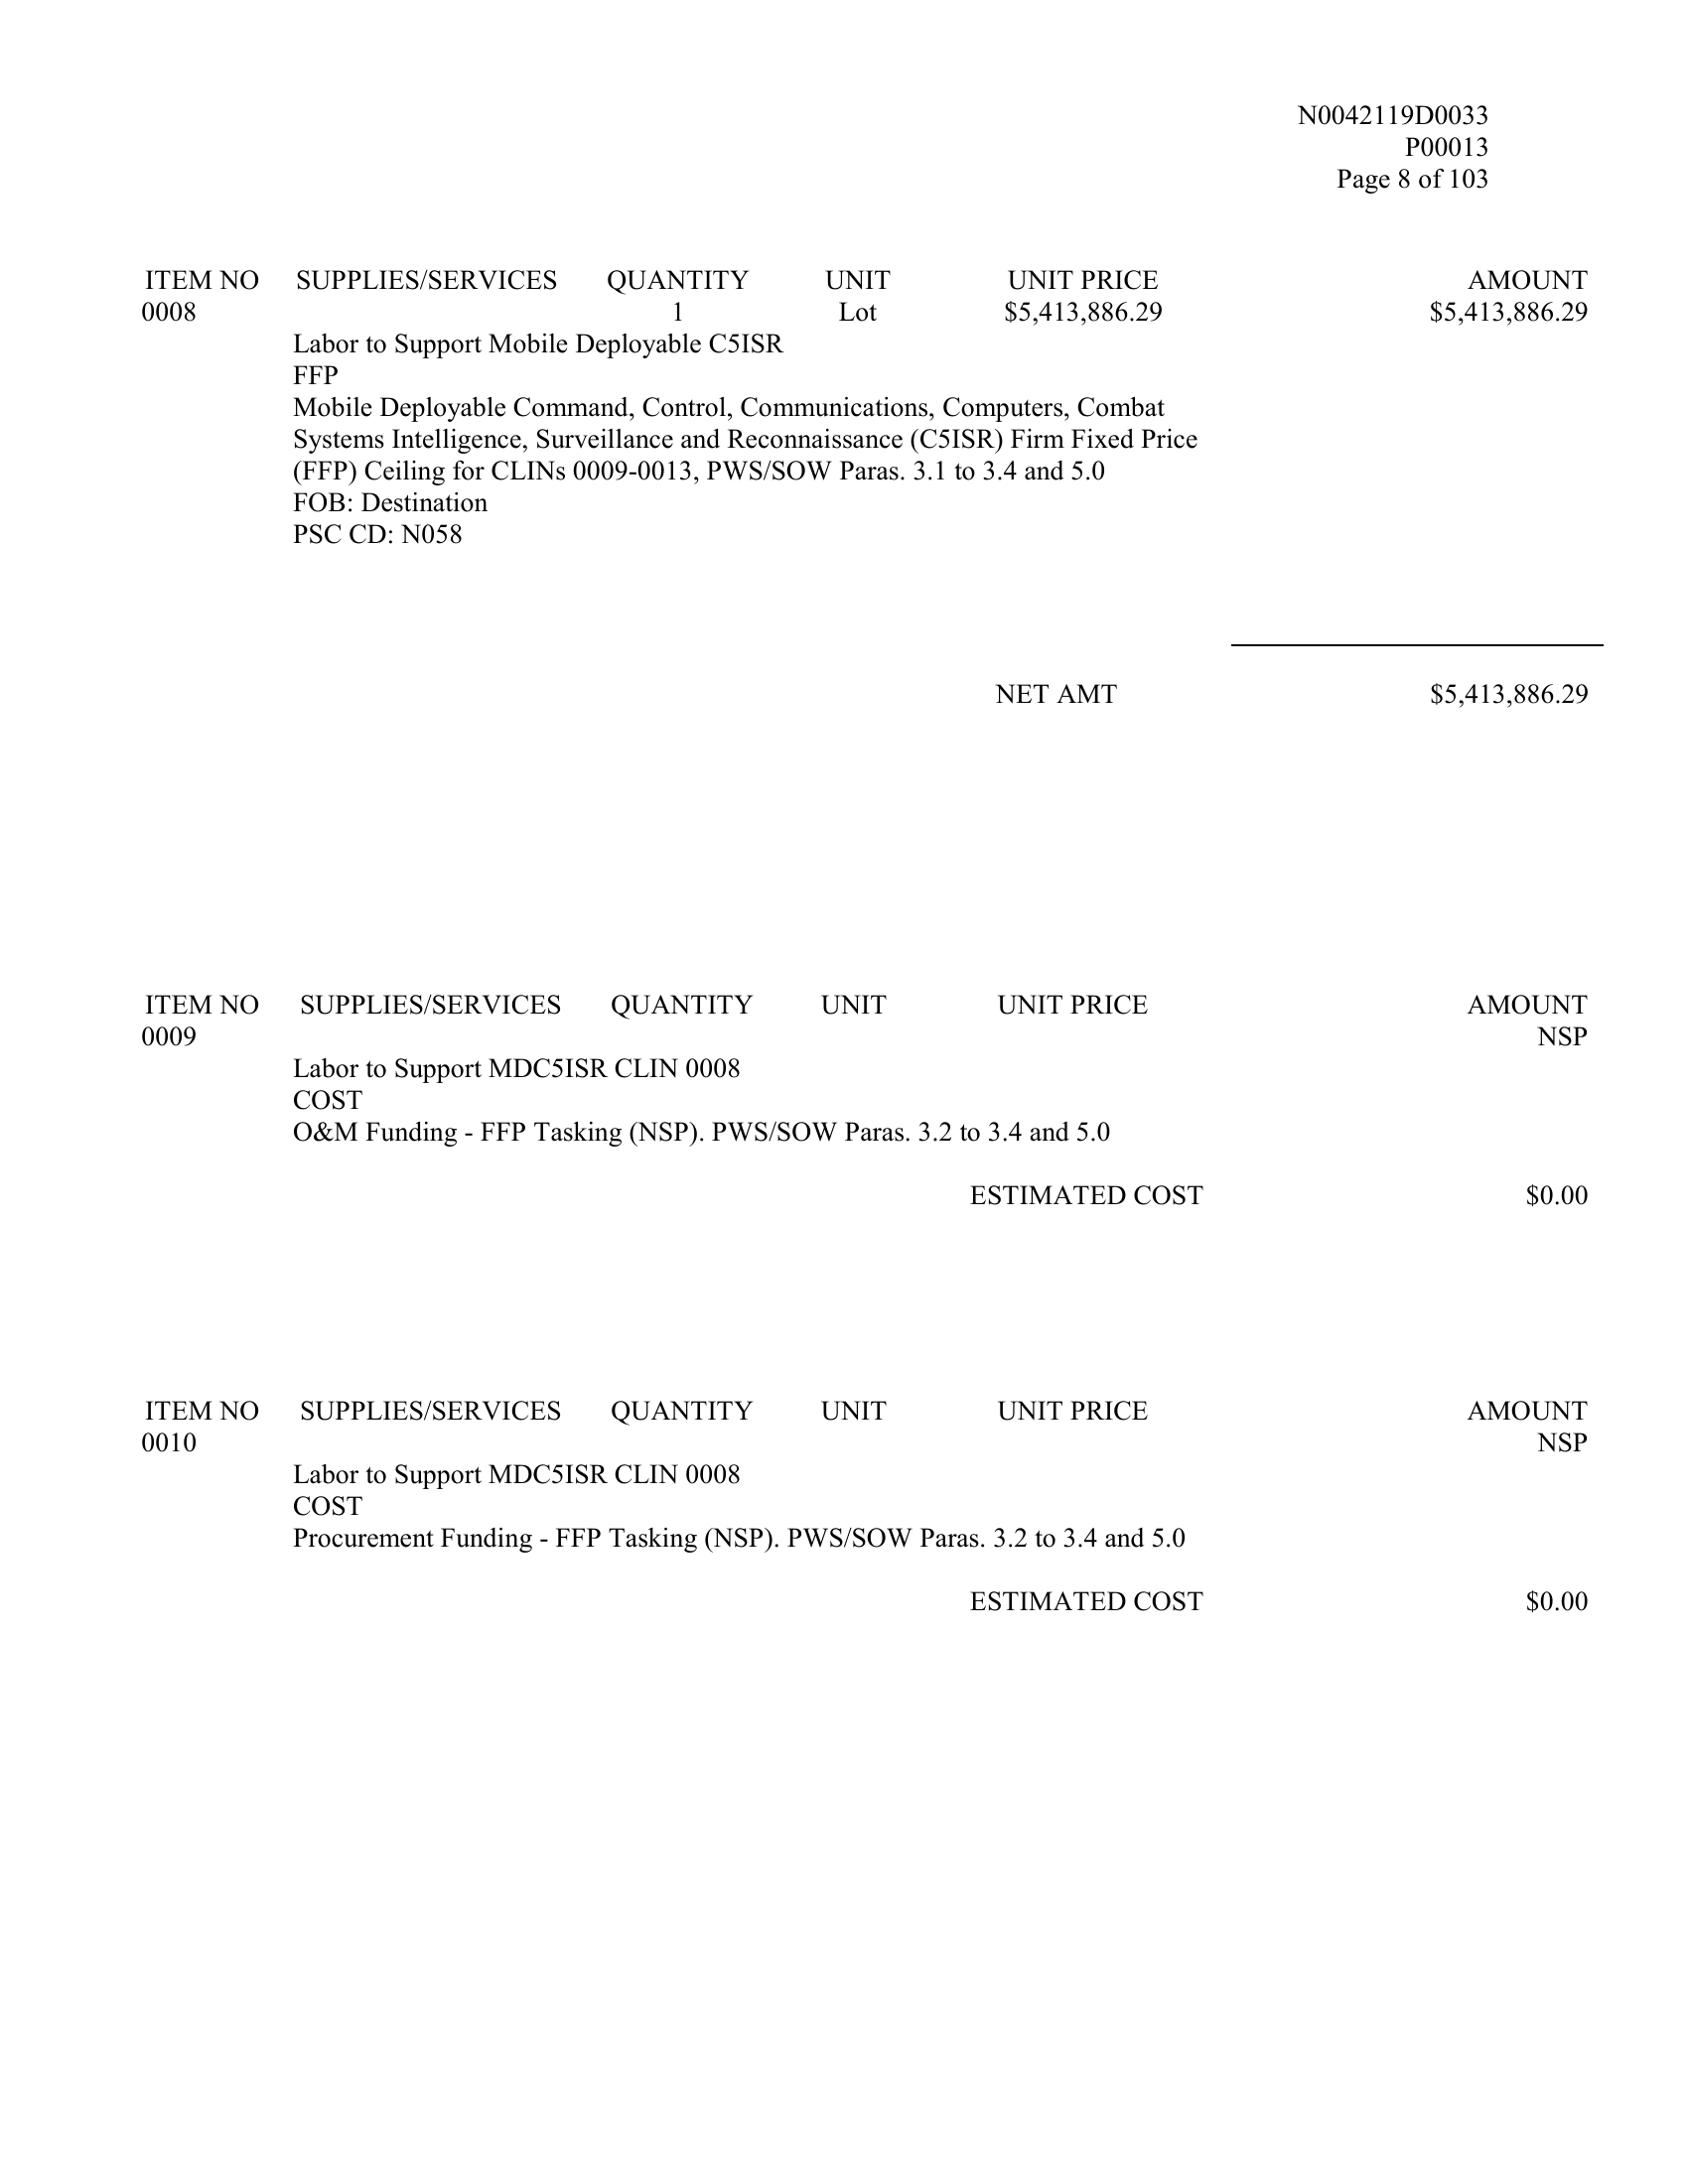table: (137, 261, 1610, 720), (142, 984, 1594, 1220), (138, 1388, 1596, 1618)
table column: (1195, 261, 1608, 720), (285, 262, 578, 716), (970, 259, 1193, 720), (583, 259, 787, 720), (966, 982, 1351, 1218), (789, 259, 966, 720), (963, 1388, 1284, 1620), (287, 986, 601, 1220), (1284, 1386, 1594, 1618), (287, 1393, 606, 1615), (138, 261, 280, 718), (1351, 984, 1599, 1218), (601, 984, 809, 1218), (610, 1388, 807, 1615), (807, 982, 965, 1221), (137, 1392, 289, 1620), (144, 984, 287, 1218), (812, 1392, 957, 1618)
table column header: (142, 984, 1601, 1021), (138, 259, 1606, 292), (138, 1392, 1590, 1422)
table row: (137, 294, 1610, 578), (140, 1025, 1599, 1221), (137, 1427, 1598, 1562)
